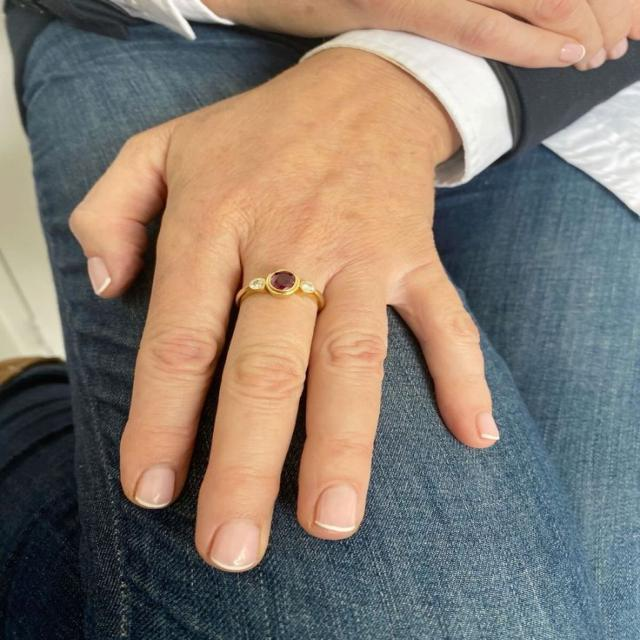Fingernail: (210, 520, 261, 570), (315, 482, 358, 531), (136, 464, 176, 507), (86, 257, 111, 296), (476, 413, 500, 439), (561, 43, 585, 64)
